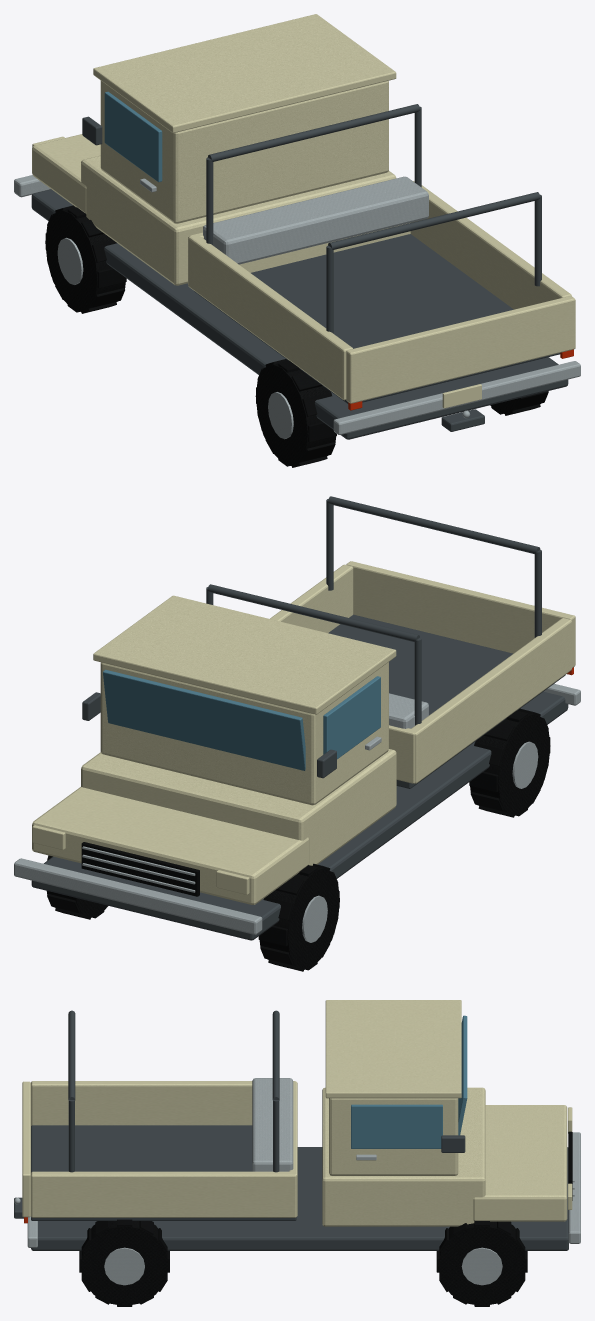
The model's file is WorkPickup.gltf.
3 views of the same model, one above another, from view 1: azimuth 30°, elevation 25°; view 2: azimuth 150°, elevation 25°; view 3: azimuth 270°, elevation 25° (orthographic). The views are drawn at different scales.
Visible parts, largest first — view 1: WorkPickup__Body, WorkPickup__Wheel_RL, WorkPickup__Wheel_FL, WorkPickup__Wheel_RR; view 2: WorkPickup__Body, WorkPickup__Wheel_RL, WorkPickup__Wheel_FL, WorkPickup__Wheel_FR; view 3: WorkPickup__Body, WorkPickup__Wheel_RR, WorkPickup__Wheel_FR.
Part boxes in pixels (left/top/right/bottom): WorkPickup__Body: left=14, top=14, right=580, bottom=439; WorkPickup__Wheel_RL: left=255, top=359, right=336, bottom=467; WorkPickup__Wheel_FL: left=45, top=205, right=126, bottom=313; WorkPickup__Wheel_RR: left=490, top=391, right=548, bottom=415; WorkPickup__Body: left=14, top=496, right=580, bottom=942; WorkPickup__Wheel_RL: left=469, top=708, right=550, bottom=817; WorkPickup__Wheel_FL: left=258, top=863, right=339, bottom=971; WorkPickup__Wheel_FR: left=46, top=855, right=108, bottom=919; WorkPickup__Body: left=14, top=1000, right=580, bottom=1285; WorkPickup__Wheel_RR: left=79, top=1219, right=169, bottom=1306; WorkPickup__Wheel_FR: left=436, top=1221, right=527, bottom=1306.
Size of the model in its own units: 1.99 by 1.91 by 4.66.
3 materials, 1 textured.
